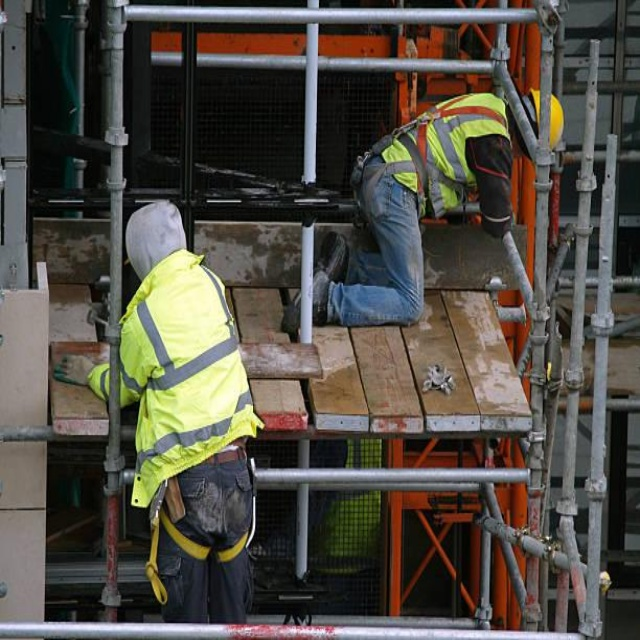Arnes_seguridad: (340, 94, 509, 229)
